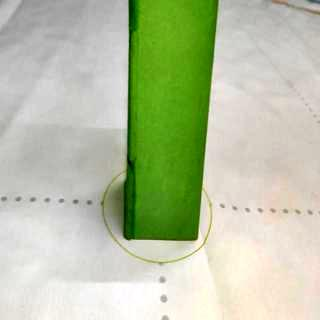greenbox: (126, 0, 202, 240)
